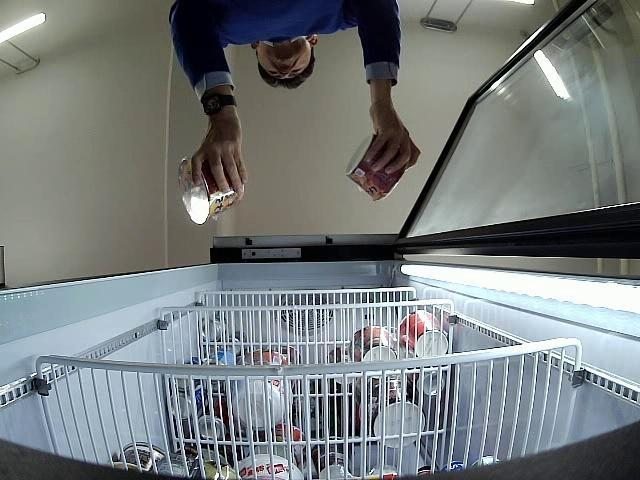05_nuguri_L: (346, 134, 406, 200), (179, 158, 238, 224)
